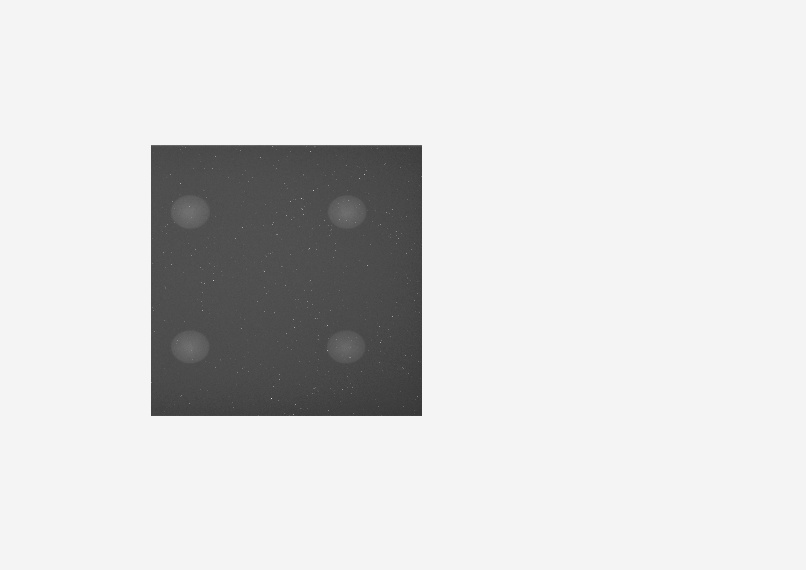bubble: (171, 194, 210, 229), (171, 329, 210, 364), (328, 194, 367, 228), (327, 329, 366, 363)
